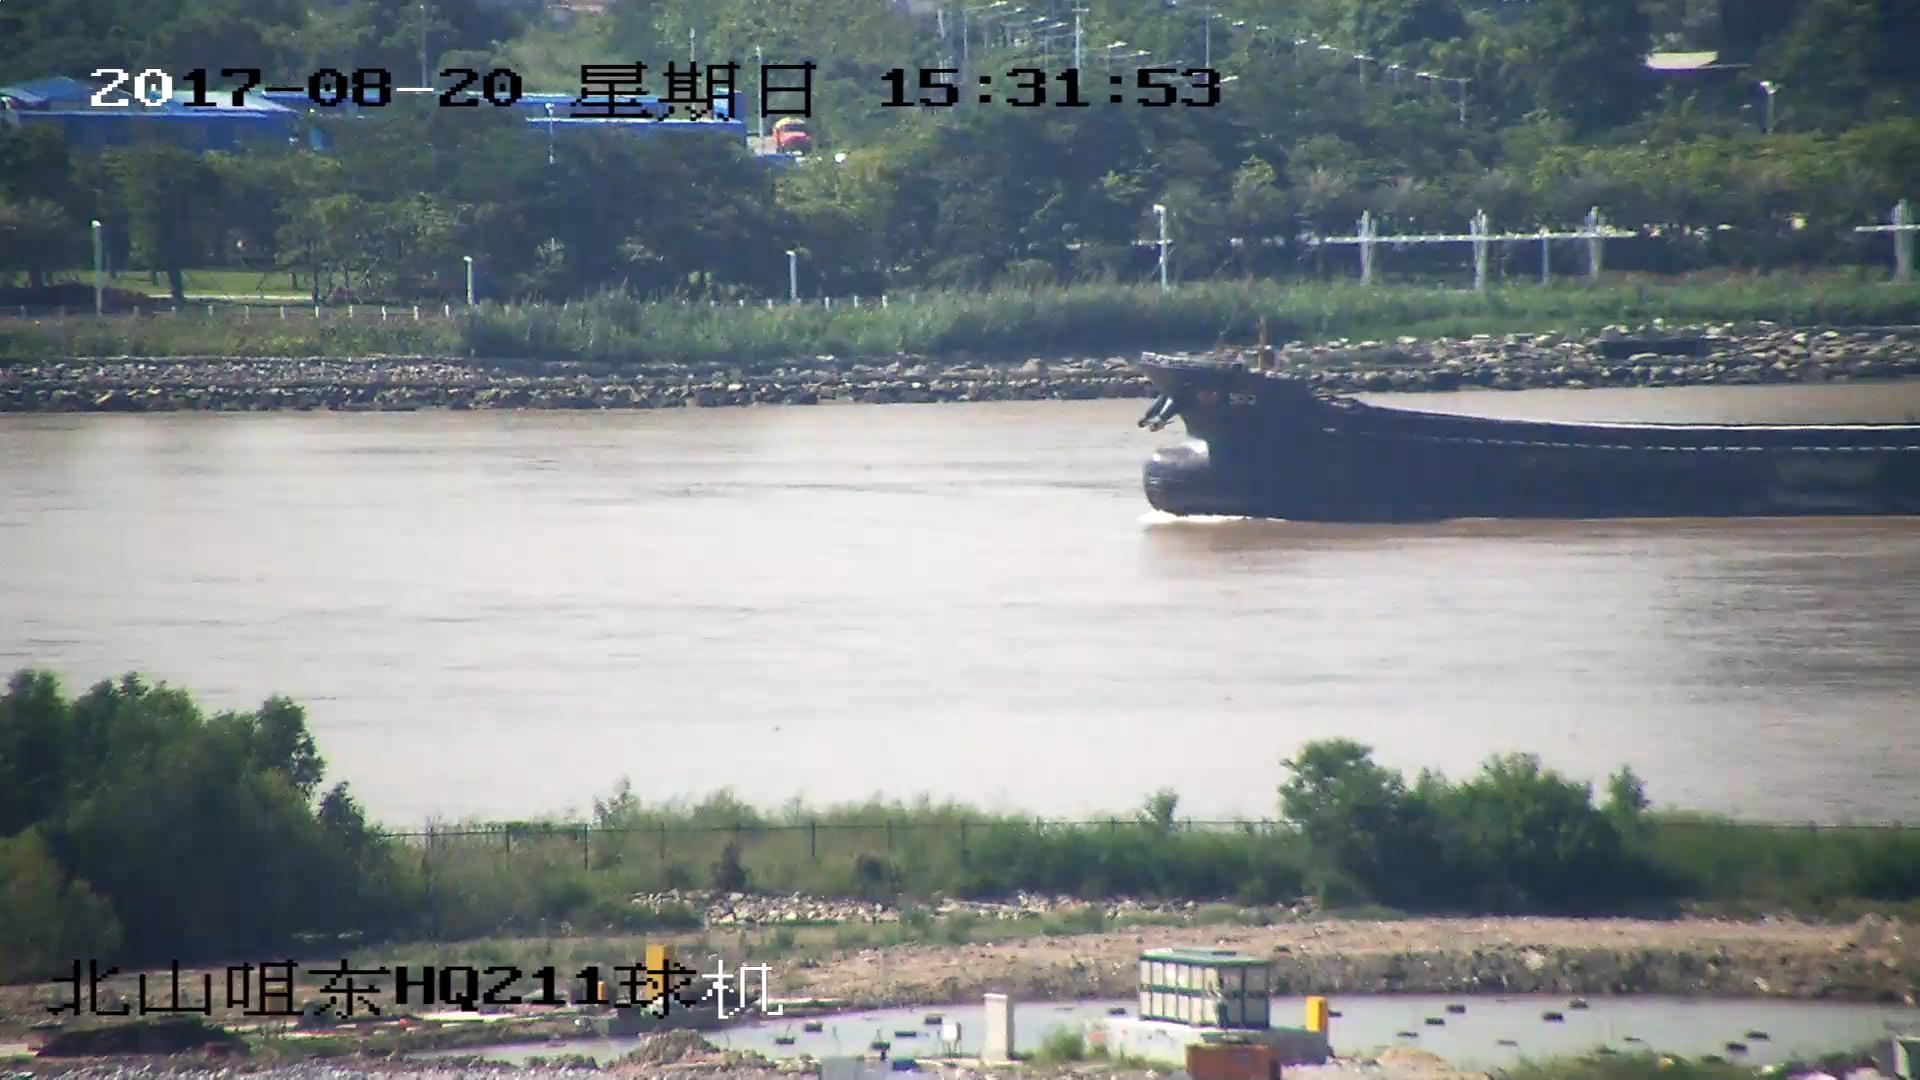Ship: (1135, 359, 1920, 524)
